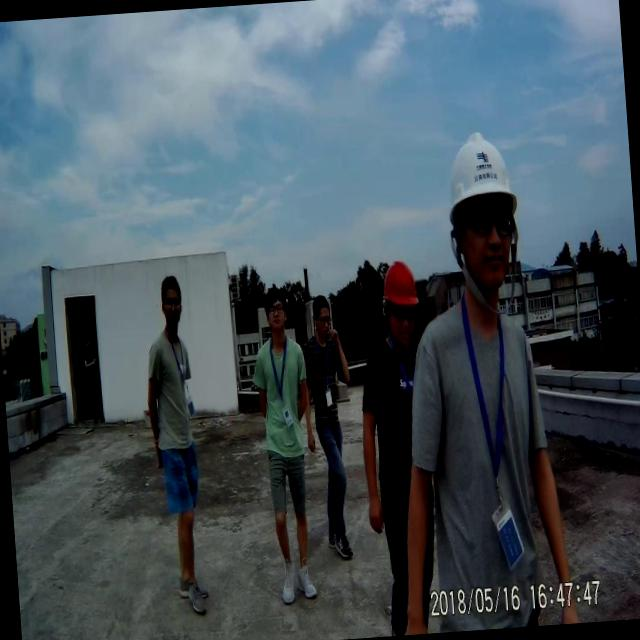helmet: (439, 132, 520, 208), (378, 258, 418, 308)
no-helmet: (310, 290, 334, 325), (158, 272, 182, 305), (263, 286, 288, 314)
no-vest: (424, 288, 552, 610), (367, 328, 429, 497), (258, 328, 308, 450), (152, 324, 196, 442), (308, 331, 344, 425)
